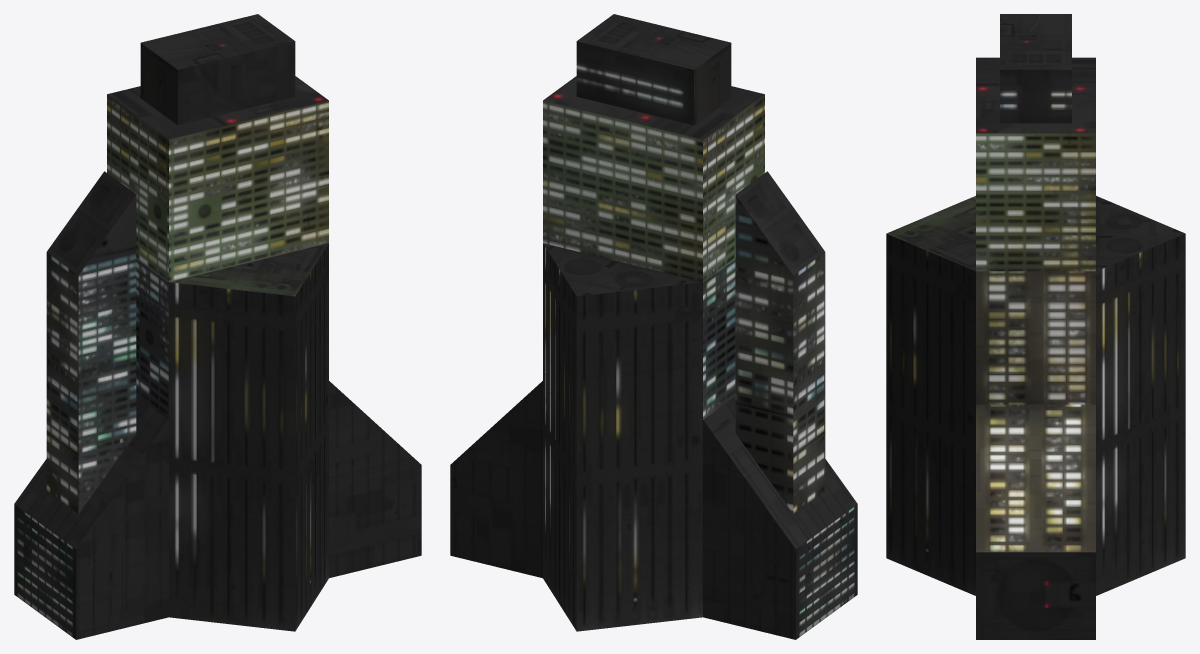
The model's file is scifi_building_48.obj.
3 renders of one model, left to right at view 1: azimuth 30°, elevation 25°; view 2: azimuth 150°, elevation 25°; view 3: azimuth 270°, elevation 25°, orthographic. The views are drawn at different scales.
Parts seen in each view (by area): view 1: building_48; view 2: building_48; view 3: building_48.
Part boxes in pixels (x1,y1,x2,y2): building_48: (14, 14, 421, 639); building_48: (450, 14, 857, 639); building_48: (886, 14, 1185, 639).
Size of the model in its own units: 106 by 156 by 81.89.
1 material, 1 textured.
